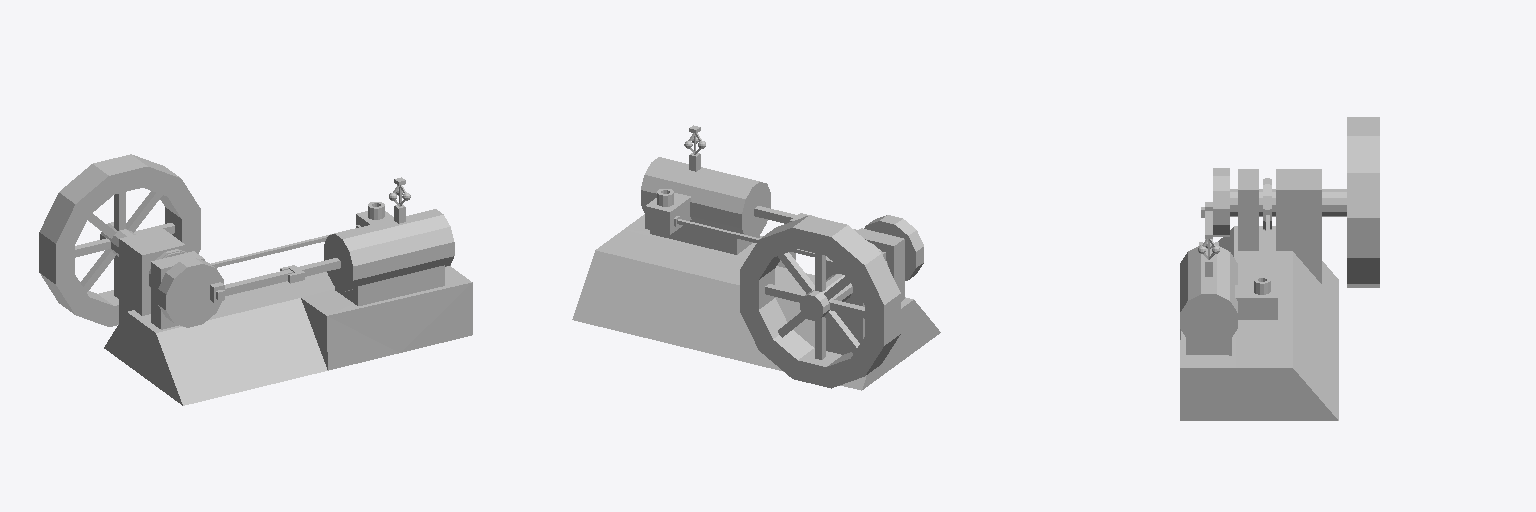
The model's file is steam_engine.obj.
3 views of the same model, side by side, from view 1: azimuth 30°, elevation 25°; view 2: azimuth 150°, elevation 25°; view 3: azimuth 270°, elevation 25° (orthographic).
Visible parts, largest first — view 1: cube, tube, cylinder; view 2: cube, tube, cylinder; view 3: cube, cylinder, tube.
Part boxes in pixels (x1,y1,x2,y2): cube: (75,177,472,405); tube: (39,154,384,326); cylinder: (100,209,454,327); cube: (572,125,940,390); tube: (657,189,900,388); cylinder: (641,157,923,320); cube: (1180,169,1338,420); cylinder: (1180,168,1346,346); tube: (1254,117,1379,294).
Size of the model in its own units: 5.75 by 2.75 by 3.